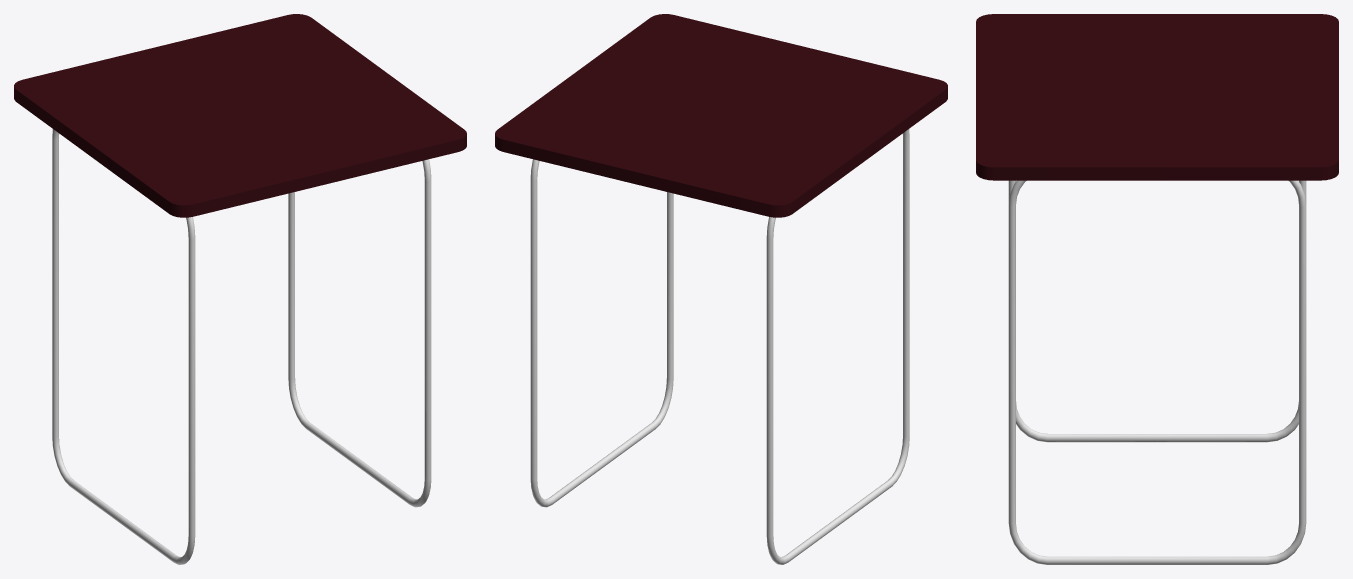
File: Table.fbx
The picture shows the model from 3 angles, left to right: view 1: azimuth 30°, elevation 25°; view 2: azimuth 150°, elevation 25°; view 3: azimuth 270°, elevation 25°; orthographic projection. The views are drawn at different scales.
Parts seen in each view (by area): view 1: TableTop, TableFrame; view 2: TableTop, TableFrame; view 3: TableTop, TableFrame.
Boxes of the visible parts, x1=… form: TableTop: x1=14, y1=14, x2=466, y2=217; TableFrame: x1=52, y1=129, x2=431, y2=564; TableTop: x1=495, y1=14, x2=947, y2=217; TableFrame: x1=530, y1=129, x2=909, y2=564; TableTop: x1=976, y1=14, x2=1338, y2=180; TableFrame: x1=1008, y1=180, x2=1306, y2=564.
Bounding box in the file's own units: 200 × 250 × 200.
